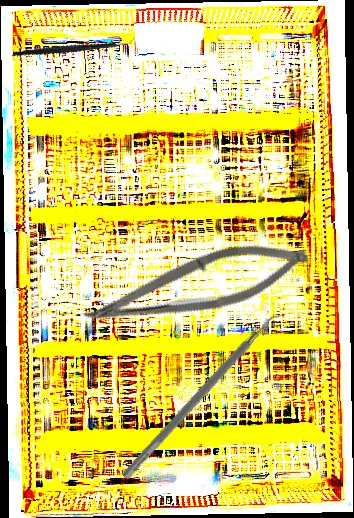Chopper: (11, 5, 137, 87)
Micro Scissor: (77, 222, 315, 353)
Spatula Surgical: (121, 304, 288, 488)
